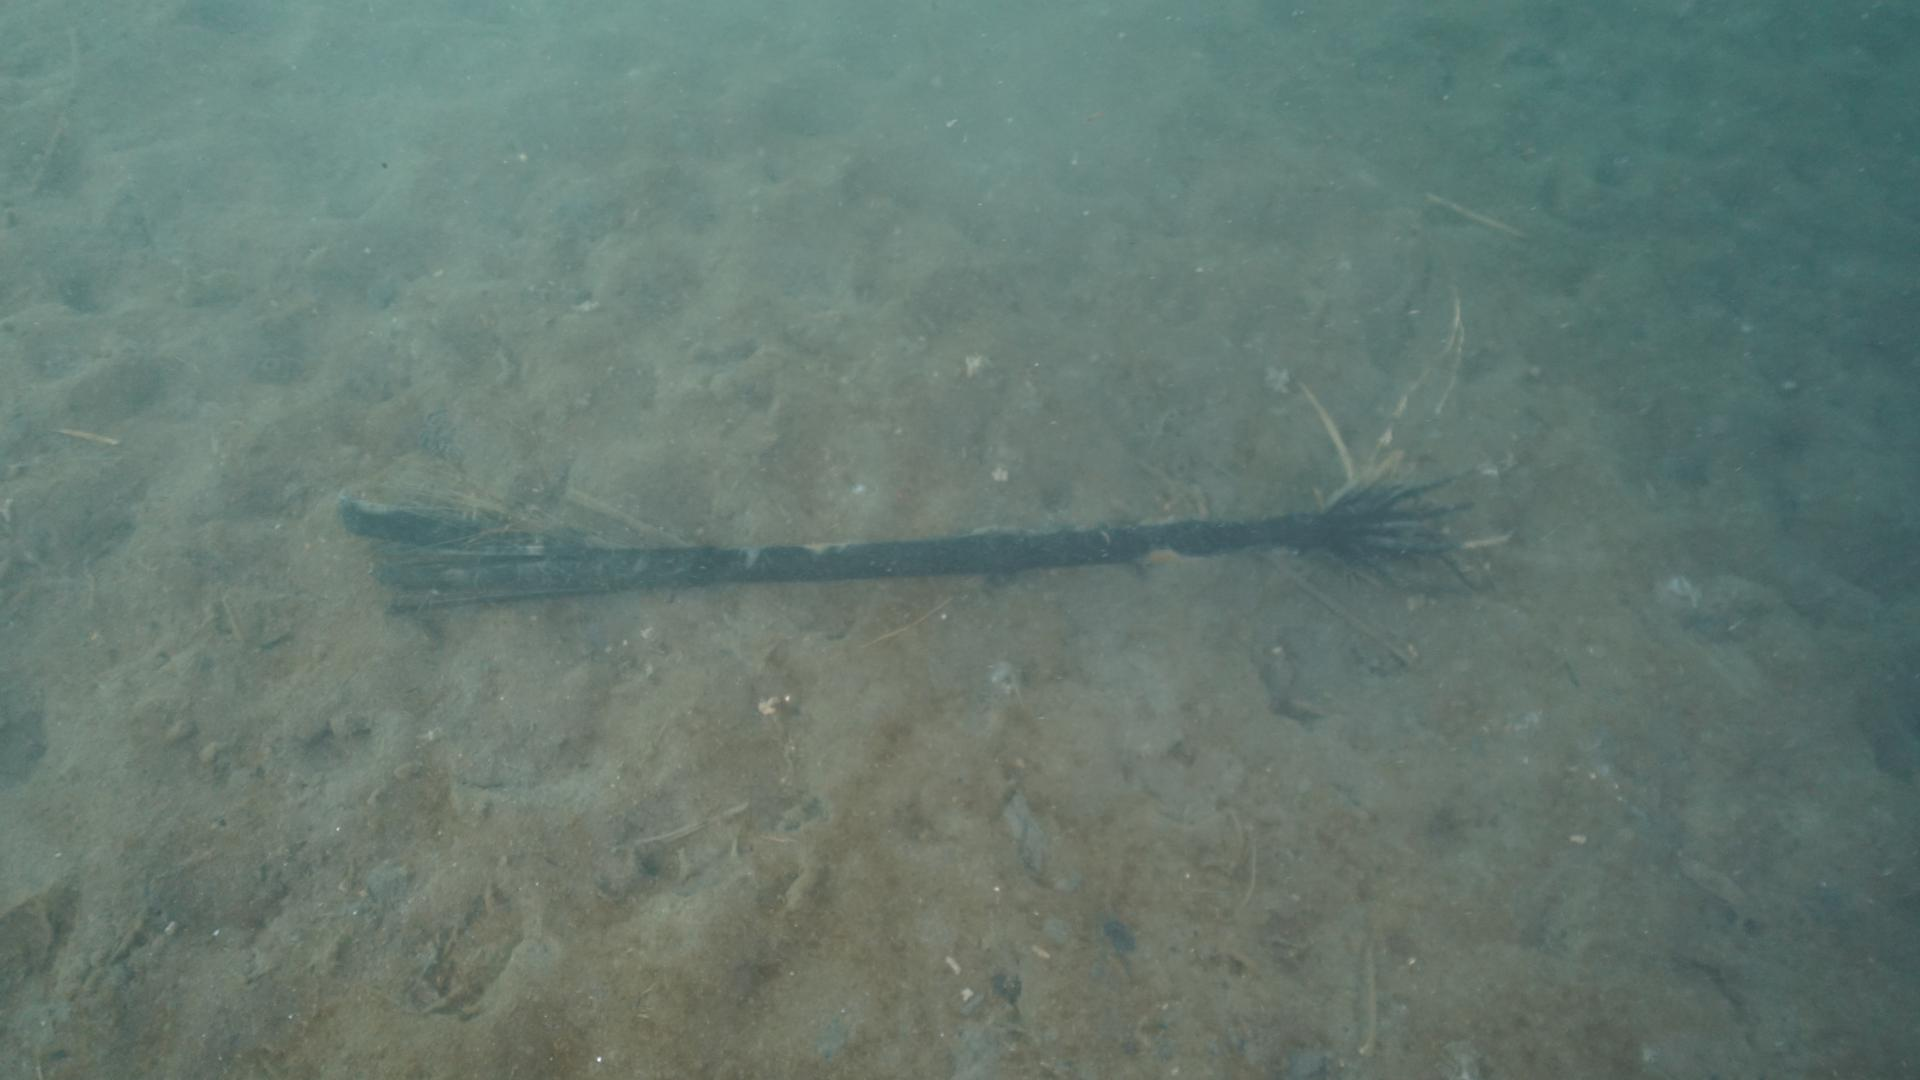wood: (335, 465, 1474, 608)
